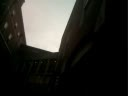window: (109, 15, 128, 40), (80, 26, 95, 51), (79, 72, 92, 96), (117, 71, 128, 96), (49, 38, 57, 61), (45, 77, 54, 96), (32, 44, 38, 64), (27, 81, 32, 96), (80, 2, 87, 12)
